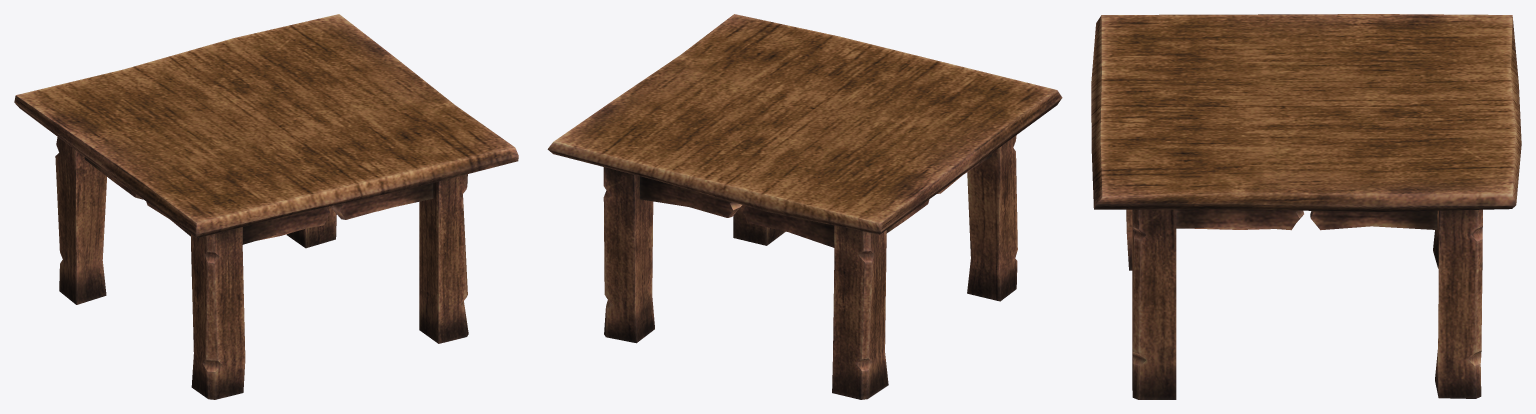
Rendered from table.fbx.
3 renders of one model, left to right at view 1: azimuth 30°, elevation 25°; view 2: azimuth 150°, elevation 25°; view 3: azimuth 270°, elevation 25°, orthographic. The views are drawn at different scales.
Visible parts, largest first — view 1: Box17; view 2: Box17; view 3: Box17.
Part boxes in pixels (x1,y1,x2,y2): Box17: (14, 14, 518, 399); Box17: (547, 14, 1062, 399); Box17: (1091, 14, 1521, 399).
Bounding box in the file's own units: 5.02 × 2.83 × 4.92.
Materials: 1 (1 with a texture image).
